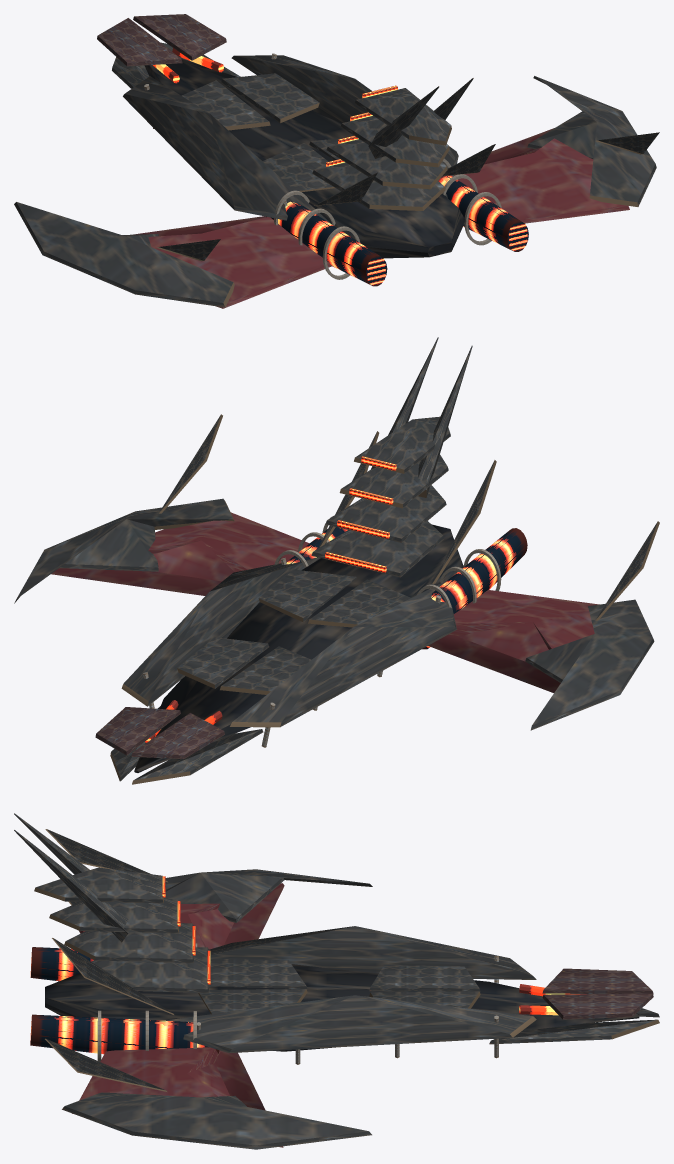
Rendered from dynasty_battleship_recreated_lod1.glb.
3 views of the same model, one above another, from view 1: azimuth 30°, elevation 25°; view 2: azimuth 150°, elevation 25°; view 3: azimuth 270°, elevation 25° (orthographic). The views are drawn at different scales.
Parts seen in each view (by area): view 1: dynasty_battleship_lod_source; view 2: dynasty_battleship_lod_source; view 3: dynasty_battleship_lod_source.
Boxes of the visible parts, x1,y1,x2,y2 form: dynasty_battleship_lod_source: (14,14,659,308); dynasty_battleship_lod_source: (14,337,659,784); dynasty_battleship_lod_source: (14,813,659,1149).
Size of the model in its own units: 3.8 by 1.35 by 3.74.
Materials: 1 (1 with a texture image).
